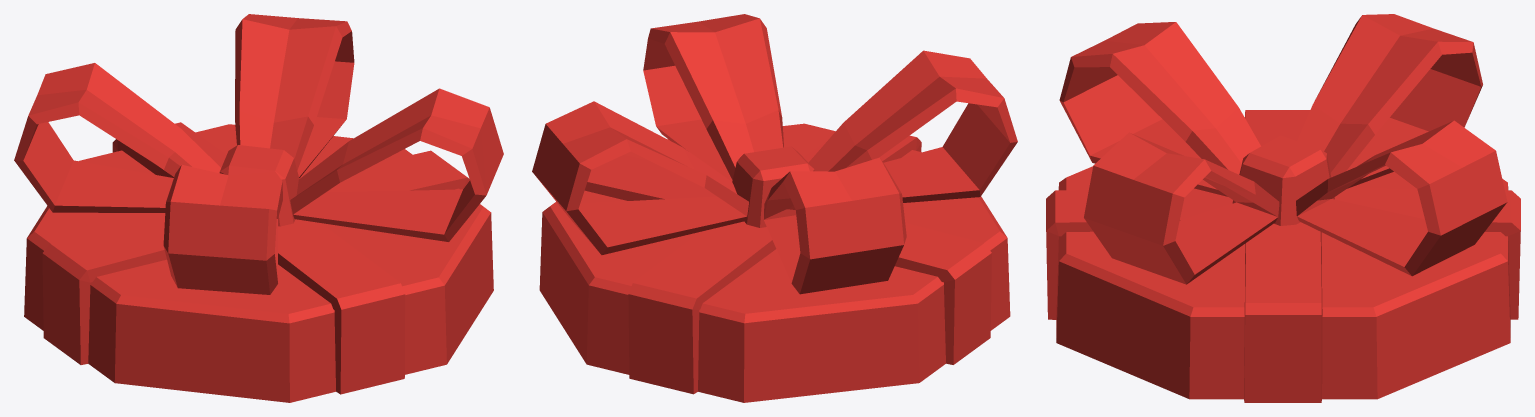
The model's file is SM_Gift_Christmas_Cylinder_Open_Lid.fbx.
The picture shows the model from 3 angles, left to right: view 1: azimuth 30°, elevation 25°; view 2: azimuth 150°, elevation 25°; view 3: azimuth 270°, elevation 25°; orthographic projection. The views are drawn at different scales.
Parts seen in each view (by area): view 1: gift-christmas-cylinder-open-lid; view 2: gift-christmas-cylinder-open-lid; view 3: gift-christmas-cylinder-open-lid.
Boxes of the visible parts, x1=… form: gift-christmas-cylinder-open-lid: x1=14, y1=14, x2=503, y2=402; gift-christmas-cylinder-open-lid: x1=532, y1=14, x2=1017, y2=402; gift-christmas-cylinder-open-lid: x1=1046, y1=14, x2=1520, y2=402.
Size of the model in its own units: 0.2732 by 0.1387 by 0.2732.
